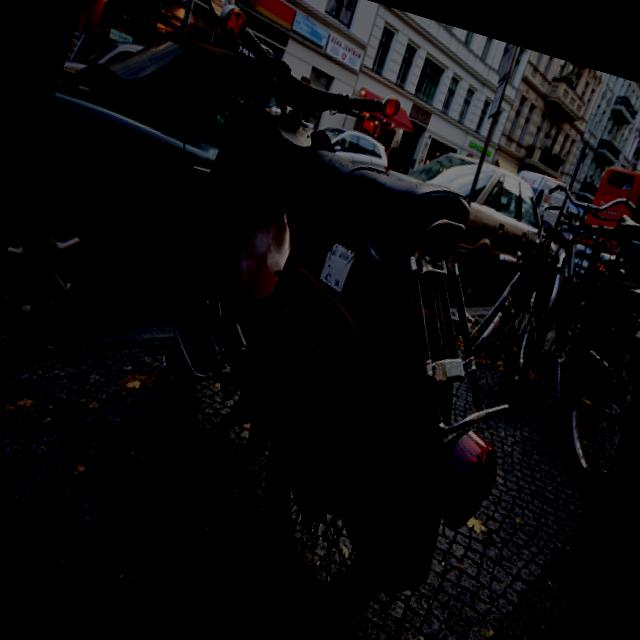Vehicle: (32, 0, 621, 640), (0, 1, 291, 368), (368, 132, 562, 326), (60, 25, 144, 95), (316, 118, 396, 170)
